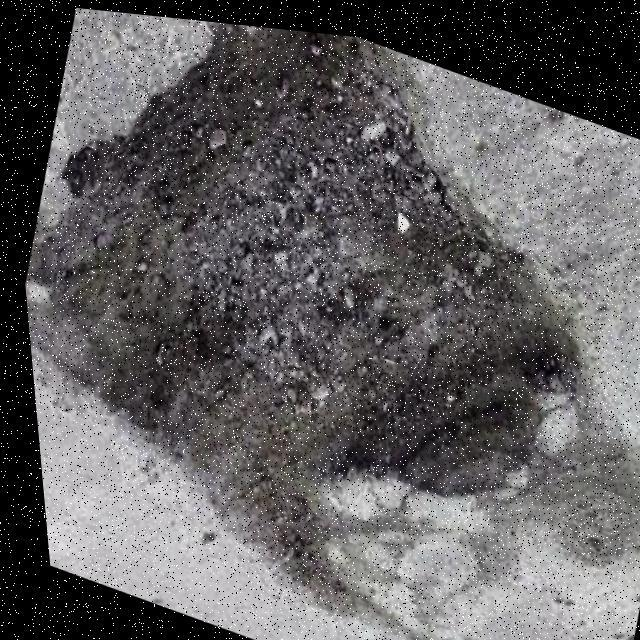pothole: (68, 32, 571, 502)
